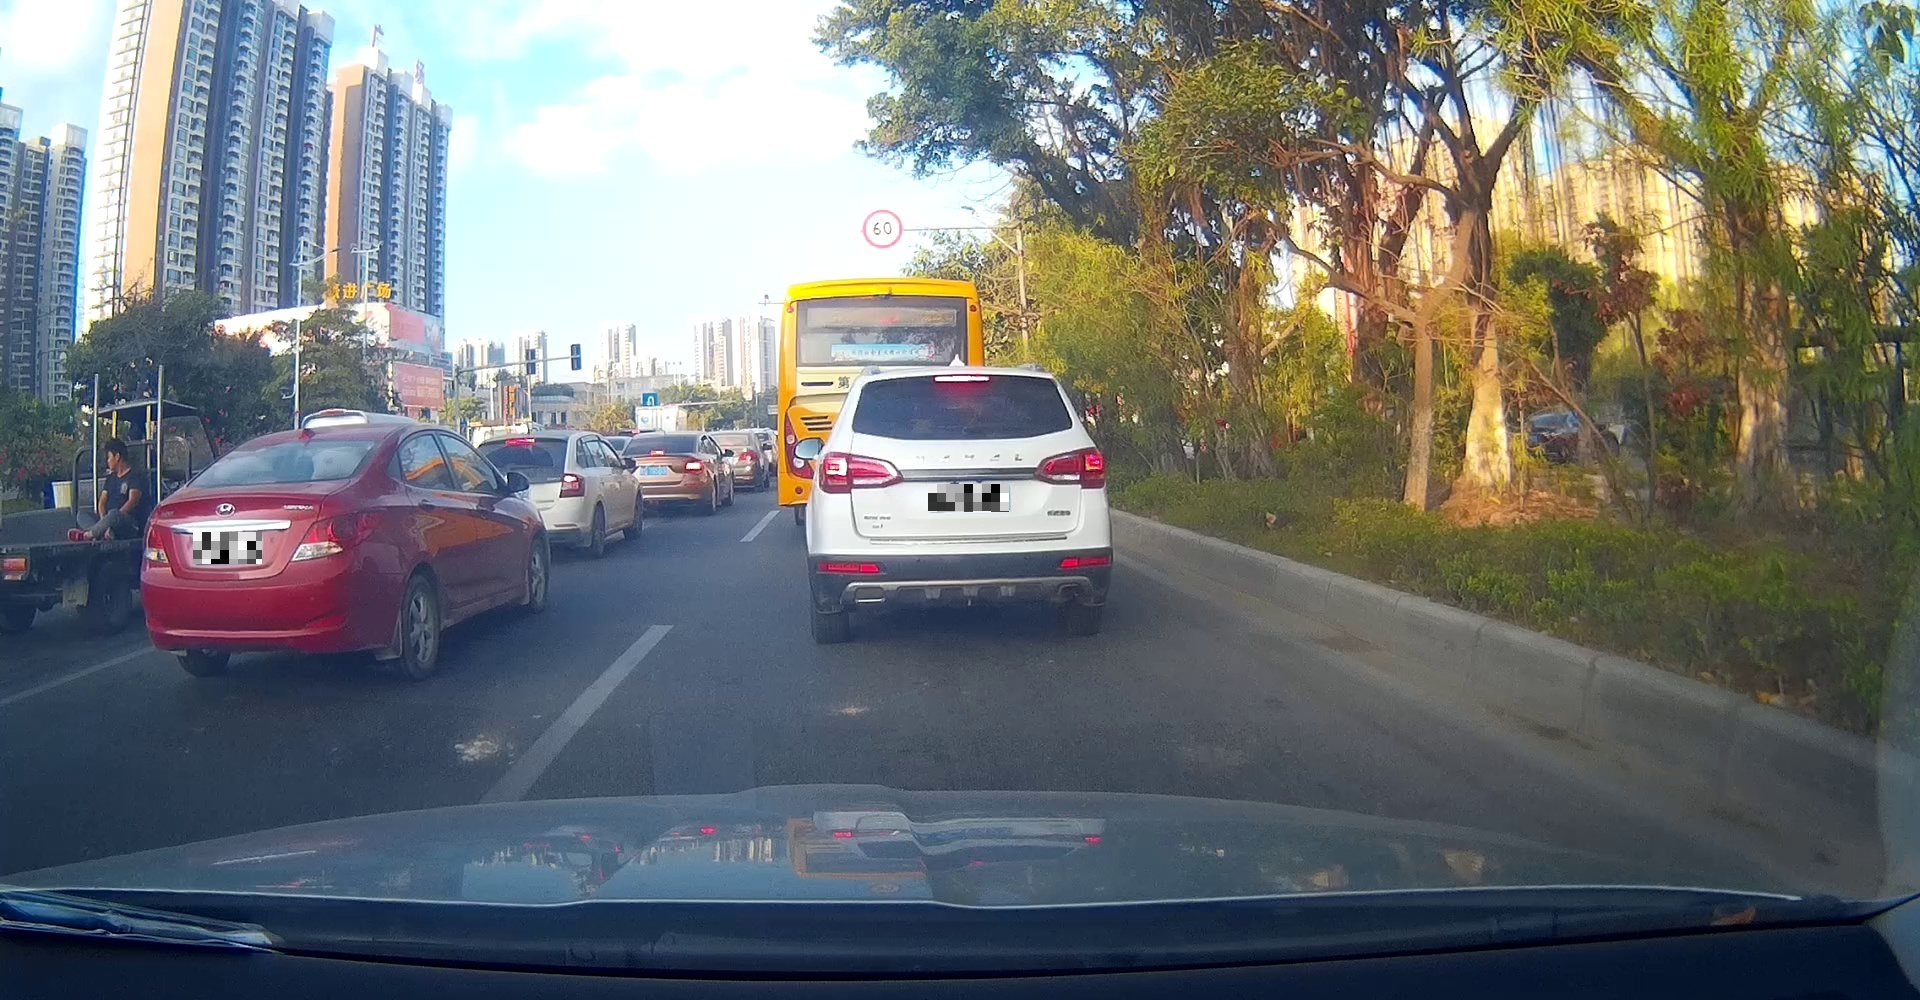L_light: (817, 451, 904, 494), (140, 525, 170, 570)
R_light: (290, 508, 383, 561), (1034, 445, 1106, 489)
T_light: (933, 376, 990, 385), (283, 437, 323, 445)
day-brake: (805, 367, 1112, 635)
day-no: (138, 426, 403, 676)
plate_1: (193, 532, 262, 563)
plate_2: (928, 484, 1010, 511)
